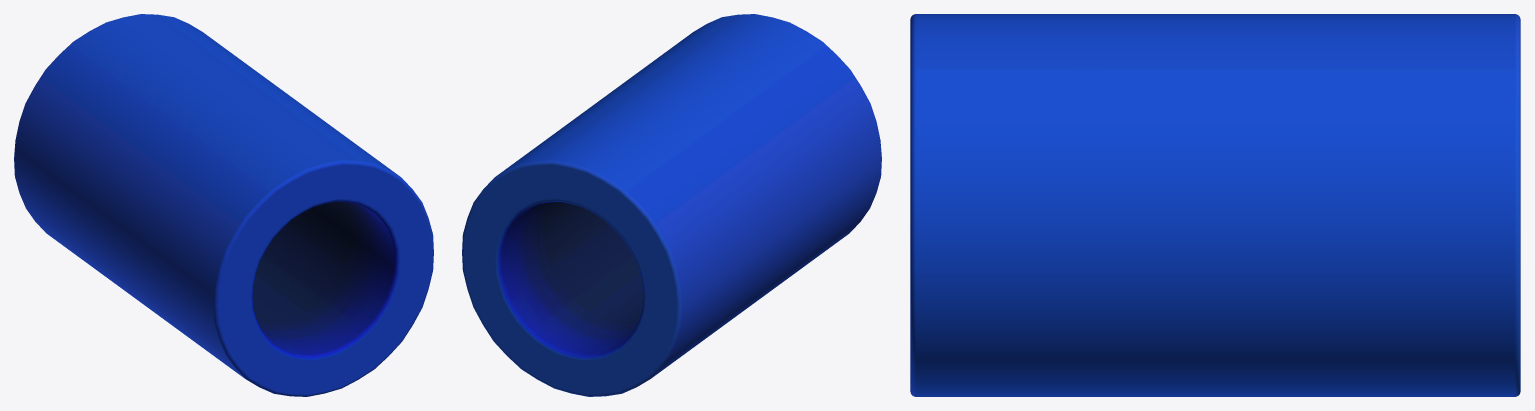
3 views of the same model, side by side, from view 1: azimuth 30°, elevation 25°; view 2: azimuth 150°, elevation 25°; view 3: azimuth 270°, elevation 25° (orthographic). The views are drawn at different scales.
Visible parts, largest first — view 1: node_id34; view 2: node_id34; view 3: node_id34.
Part boxes in pixels (x1,y1,x2,y2): node_id34: (14,14,433,396); node_id34: (462,14,881,396); node_id34: (910,14,1520,396).
Size of the model in its own units: 0.3201 by 0.3201 by 0.512.
1 material, 1 textured.
